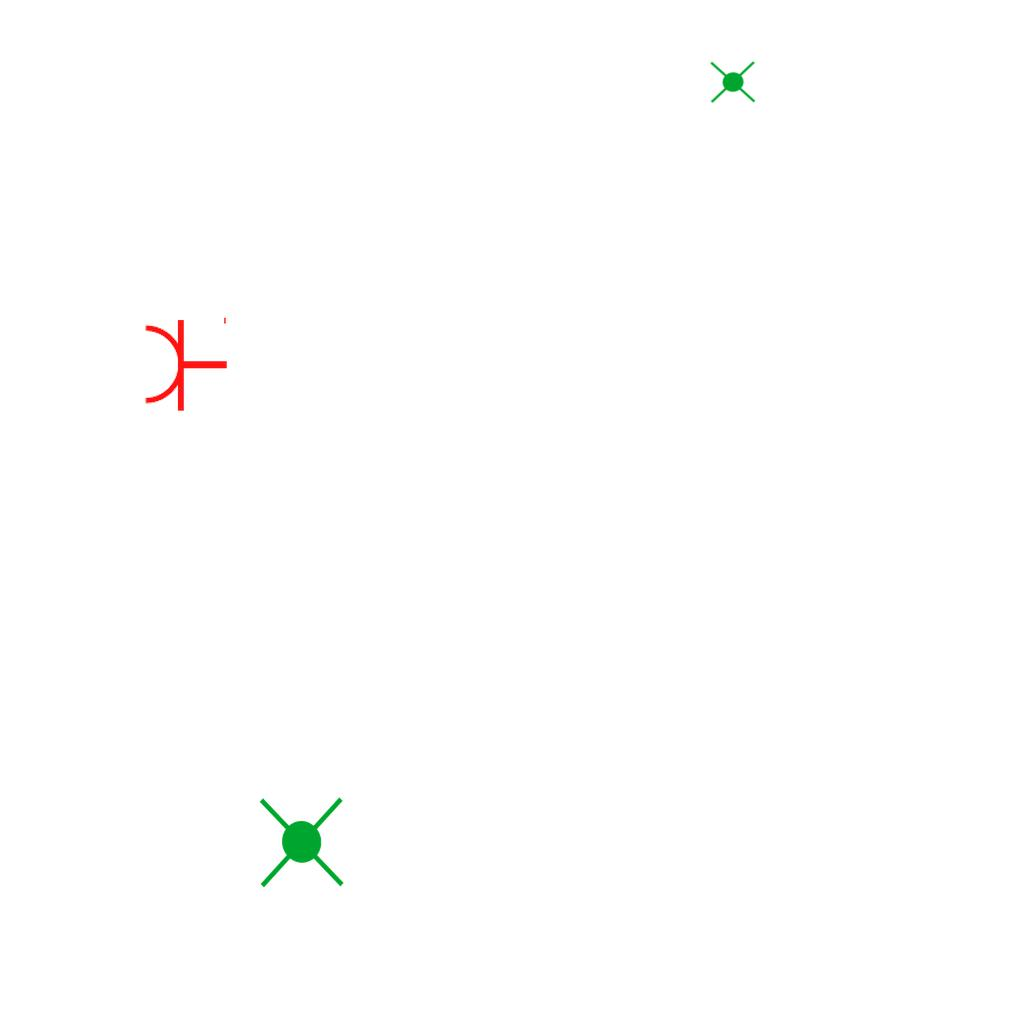Notlichtbaustein_in_Allgemeinbeleuchtug_engebaut_Einbau_(1UG_und_2UG_Aufbauvaria: (249, 792, 352, 892), (708, 56, 758, 107)
Schukosteckdose_einfach: (142, 313, 229, 413)
